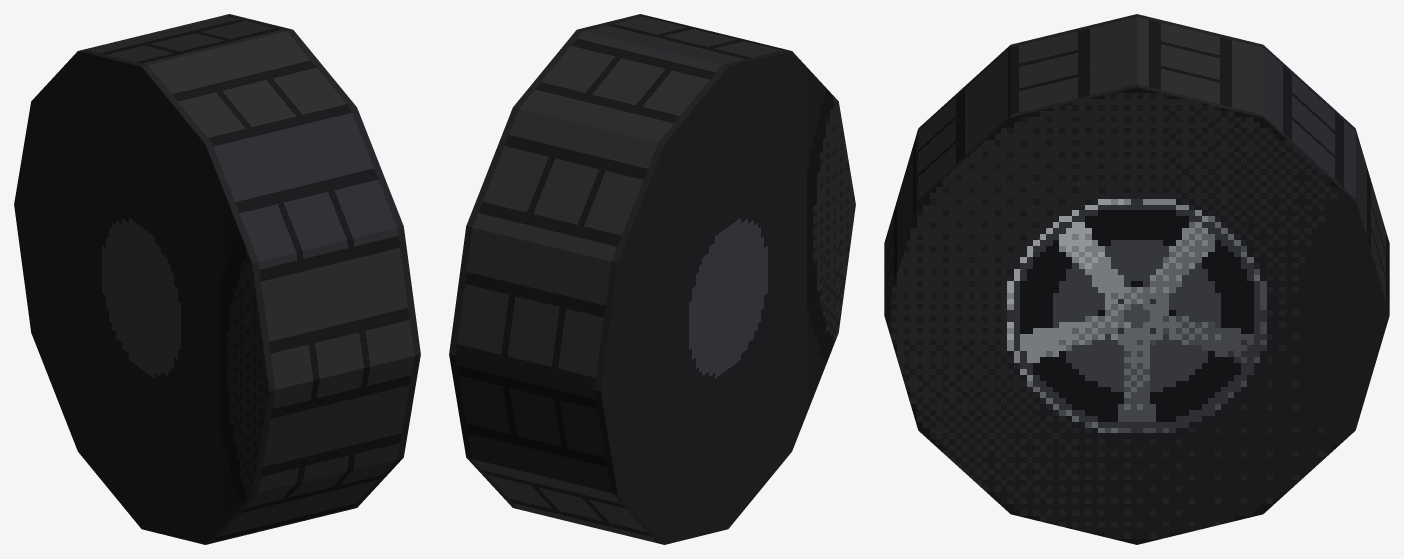
Rendered from wheel_stock.glb.
The picture shows the model from 3 angles, left to right: view 1: azimuth 30°, elevation 25°; view 2: azimuth 150°, elevation 25°; view 3: azimuth 270°, elevation 25°; orthographic projection.
Parts seen in each view (by area): view 1: wheel_stock; view 2: wheel_stock; view 3: wheel_stock.
Boxes of the visible parts, bbox=[...] form: wheel_stock: bbox=[14, 14, 420, 544]; wheel_stock: bbox=[449, 14, 855, 544]; wheel_stock: bbox=[884, 14, 1389, 544].
Size of the model in its own units: 0.285 by 0.8308 by 0.8308.
1 material, 1 textured.
